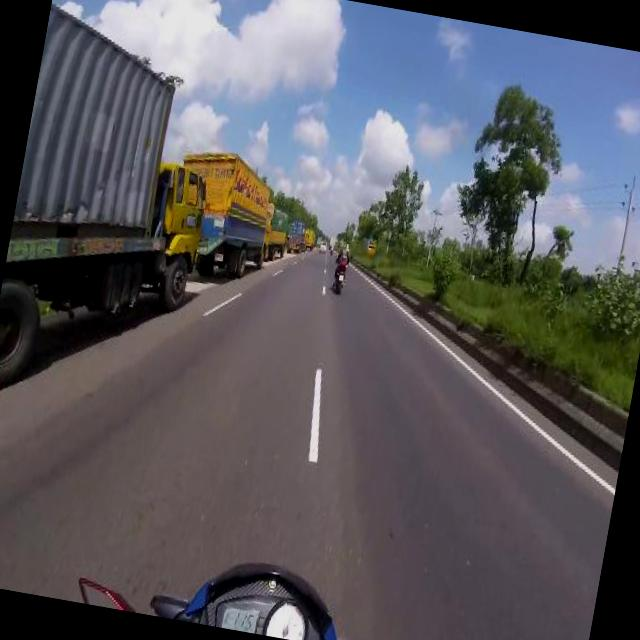motorcycle: (65, 528, 354, 640), (328, 238, 350, 294), (329, 241, 334, 253)
truck: (0, 0, 231, 416), (168, 144, 283, 278), (264, 203, 293, 260), (284, 215, 310, 252), (302, 224, 316, 248), (361, 236, 376, 252)
